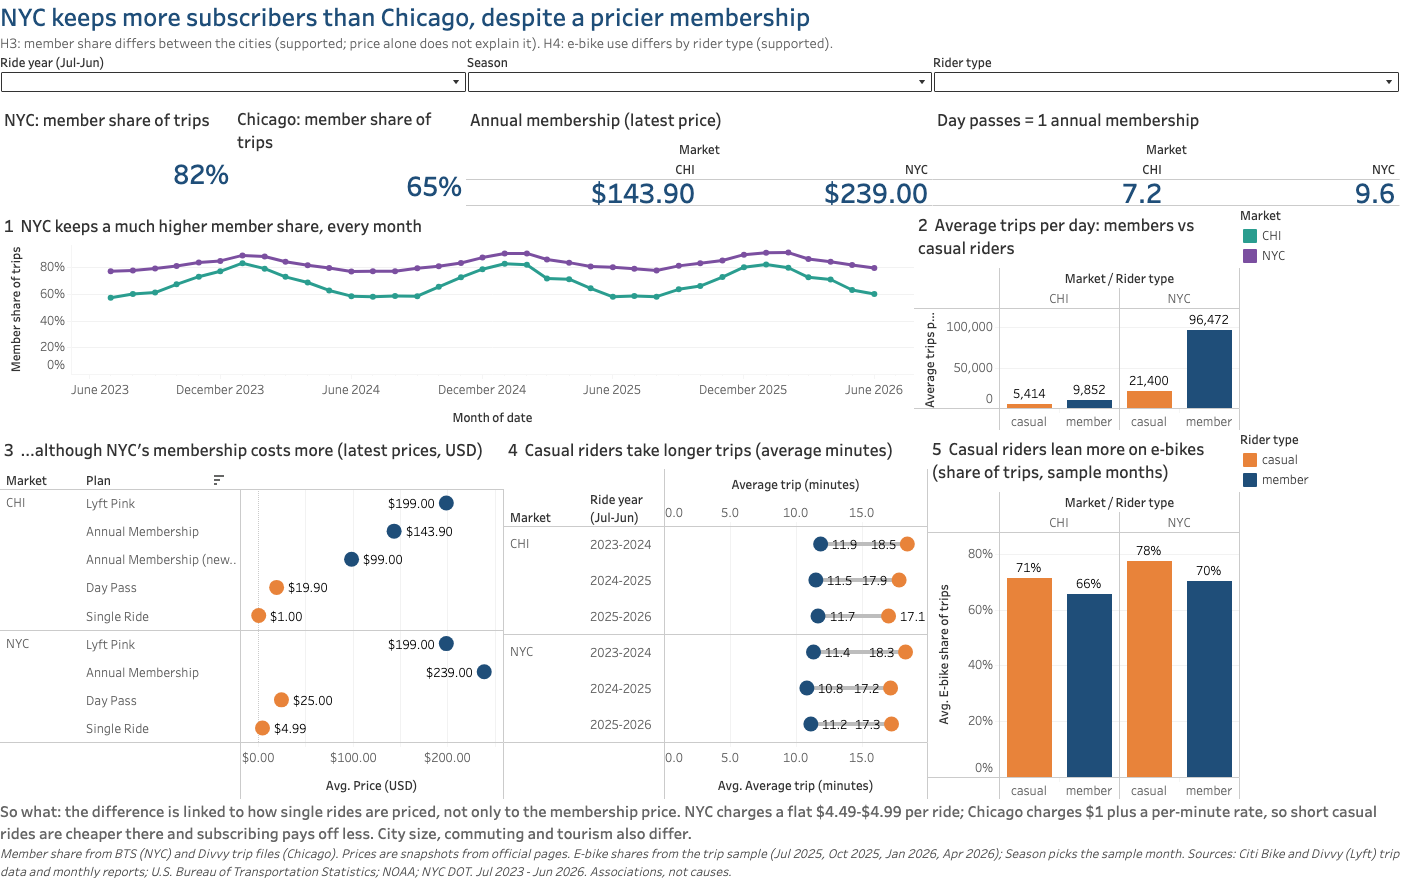

What the dashboard file says about the page in this screenshot:
{"tool":"tableau","page":{"name":"2 NYC vs Chicago","canvas":[1400,880],"ordinal":1},"visuals":[{"type":"text","box":[0,0,1400,59.3]},{"type":"parameter","param":"[Parameters].[P_Year]","box":[0,59.3,280,49.4]},{"type":"parameter","param":"[Parameters].[P_Season]","box":[280,59.3,280,49.4]},{"type":"parameter","param":"[Parameters].[P_Rider]","box":[560,59.3,280,49.4]},{"type":"worksheet","title":"T2 nyc share","mark":"Text","box":[0,108.8,350,89]},{"type":"worksheet","title":"T2 chi share","mark":"Text","box":[350,108.8,350,89]},{"type":"worksheet","title":"T2 price","mark":"Text","cols":["city_id"],"box":[700,108.8,350,89]},{"type":"worksheet","title":"T2 breakeven","mark":"Text","cols":["city_id"],"box":[1050,108.8,350,89]},{"type":"worksheet","title":"C1 share","mark":"Line","rows":["member_share"],"cols":["date"],"box":[0,197.7,640.5,296.6]},{"type":"worksheet","title":"C2 daily","mark":"Bar","rows":["avg_daily"],"cols":["city_id","rider_type"],"box":[640.5,197.7,640.5,296.6]},{"type":"legend","title":"C1 share","param":"[federated.fbedf4c5428e40d0b2d700440ef2].[none:city_id:nk]","box":[1281,197.7,119,296.6]},{"type":"worksheet","title":"C3 prices","mark":"Circle","rows":["city_id","plan_name"],"cols":["price_usd"],"box":[0,494.4,427,296.6]},{"type":"worksheet","title":"C4 trip length","mark":"Automatic","rows":["city_id","ride_year"],"cols":["avg_min","avg_min2"],"box":[427,494.4,427,296.6]},{"type":"worksheet","title":"C5 ebikes","mark":"Bar","rows":["ebike_share"],"cols":["city_id","rider_type"],"box":[854,494.4,427,296.6]},{"type":"legend","title":"C4 trip length","param":"[federated.d2318ef11be84381b802ac294bca].[none:rider_type:nk]","box":[1281,494.4,119,296.6]},{"type":"text","box":[0,791,1400,89]}]}

Visuals, with their boxes in screenshot pixels (x1, y1, x2, y2), scaled from the page's 1400x880 canvas onto the 1420x878 screenshot:
text: bbox(0, 0, 1419, 59)
parameter: bbox(0, 59, 284, 108)
parameter: bbox(284, 59, 568, 108)
parameter: bbox(568, 59, 852, 108)
"T2 nyc share" worksheet (Text marks): bbox(0, 109, 355, 197)
"T2 chi share" worksheet (Text marks): bbox(355, 109, 710, 197)
"T2 price" worksheet (Text marks): bbox(710, 109, 1065, 197)
"T2 breakeven" worksheet (Text marks): bbox(1065, 109, 1419, 197)
"C1 share" worksheet (Line marks): bbox(0, 197, 650, 493)
"C2 daily" worksheet (Bar marks): bbox(650, 197, 1299, 493)
"C1 share" legend: bbox(1299, 197, 1419, 493)
"C3 prices" worksheet (Circle marks): bbox(0, 493, 433, 789)
"C4 trip length" worksheet: bbox(433, 493, 866, 789)
"C5 ebikes" worksheet (Bar marks): bbox(866, 493, 1299, 789)
"C4 trip length" legend: bbox(1299, 493, 1419, 789)
text: bbox(0, 789, 1419, 877)
